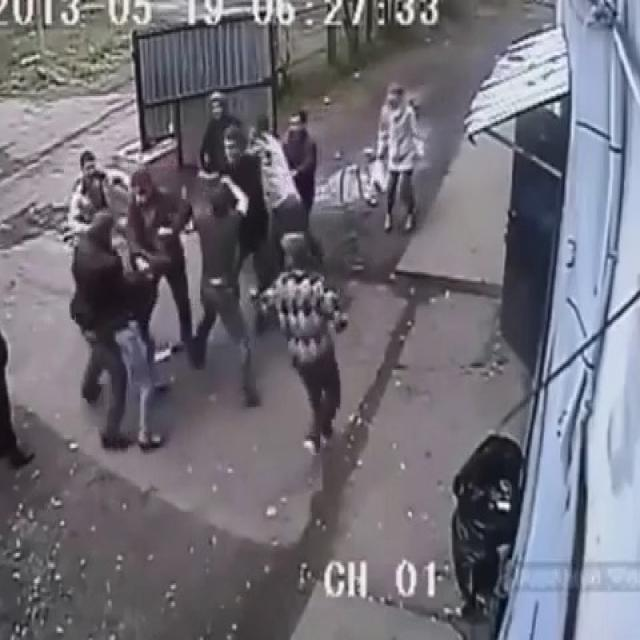fight: (74, 166, 166, 454), (195, 125, 261, 406), (266, 87, 329, 265)
